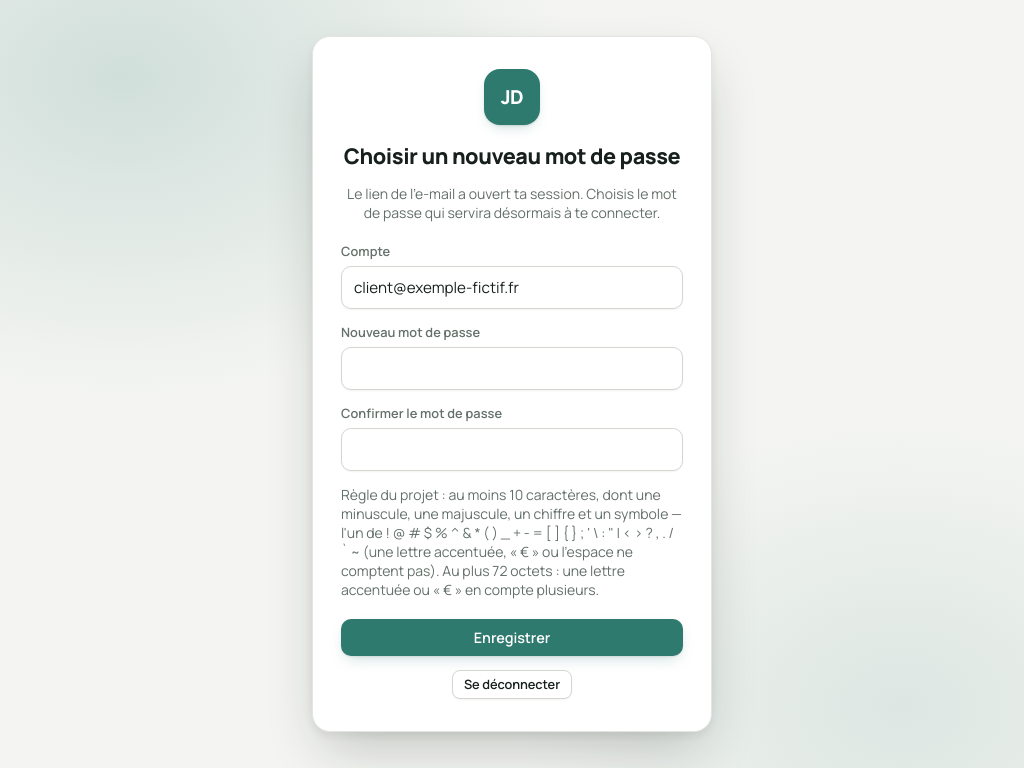
Test case: NouveauMotDePasse › un mot de passe sans majuscule, chiffre ni symbole ne part pas, et l’écran dit ce qui manque
The image size is (1024, 768).
Type "motdepassesimple" into the password field labelled "Nouveau mot de passe".
click(512, 368); type("motdepassesimple")  # box [341, 347, 683, 390]
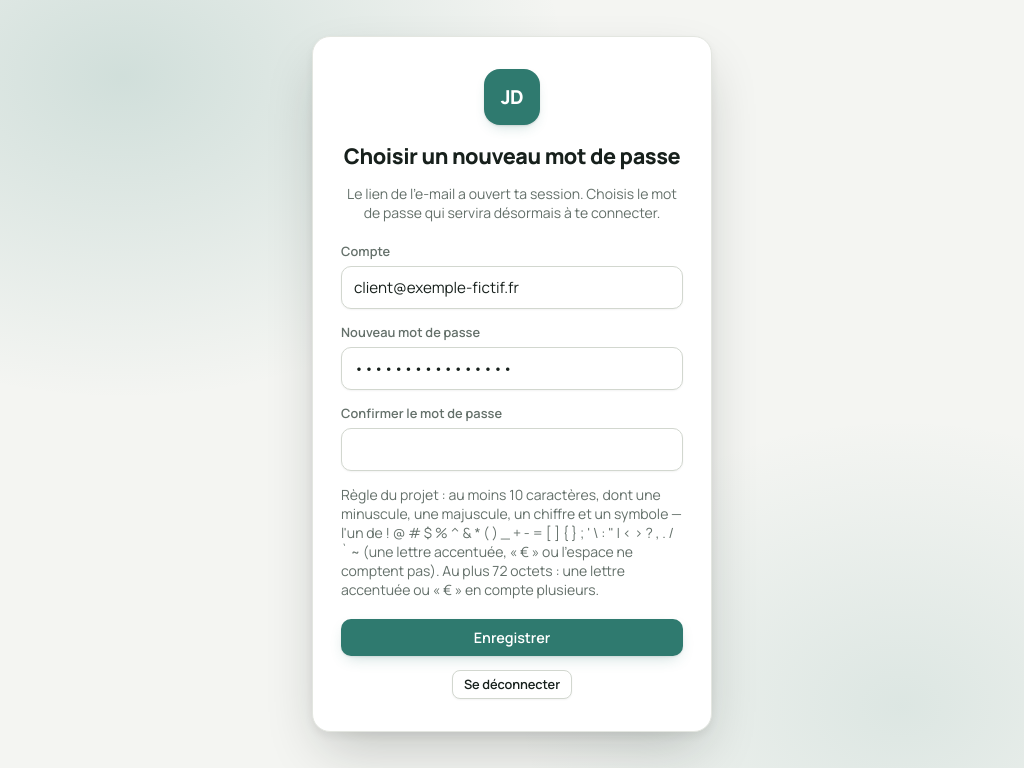
Type "motdepassesimple" into the password field labelled "Confirmer le mot de passe".
click(512, 449); type("motdepassesimple")  # box [341, 428, 683, 471]
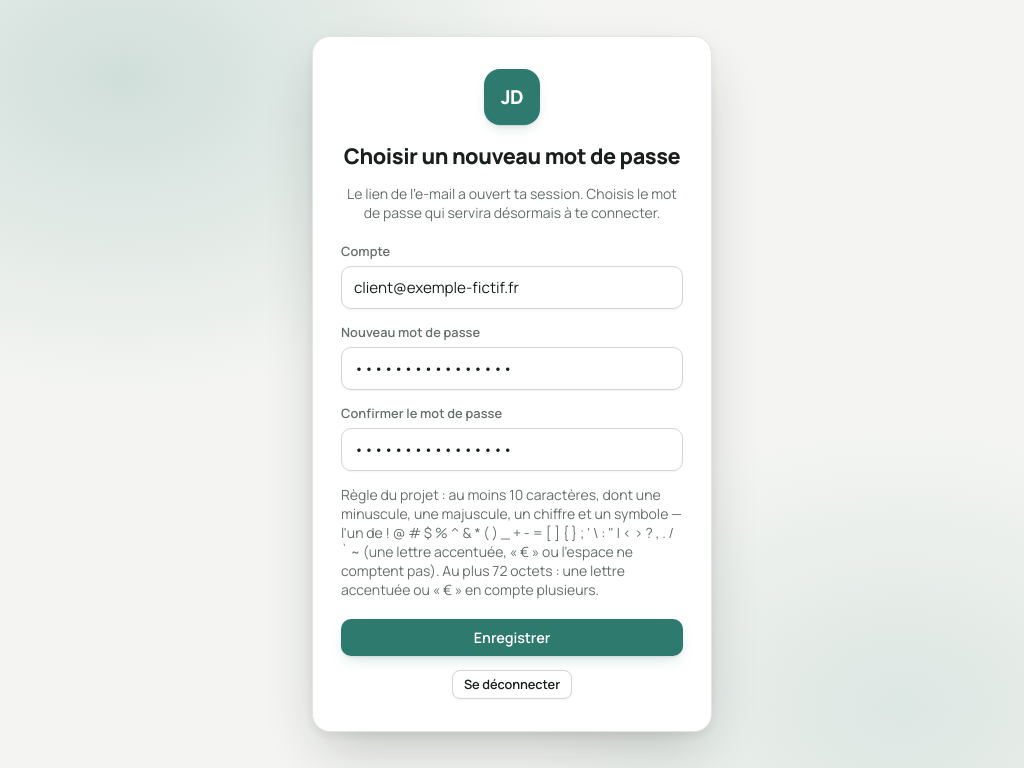
Submit the form named "Enregistrer", box [341, 242, 683, 656]
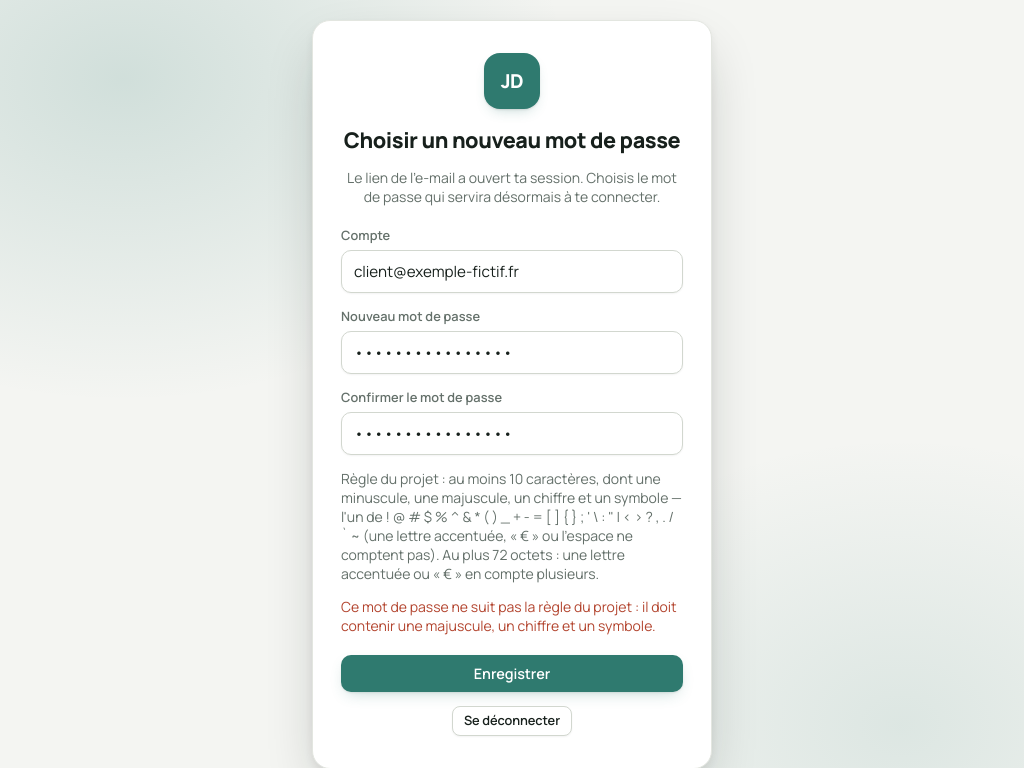
Check: the message shows "Ce mot de passe ne suit pas la règle du projet : il doit contenir une majuscule, un chiffre et un symbole.", box [341, 597, 677, 635]
